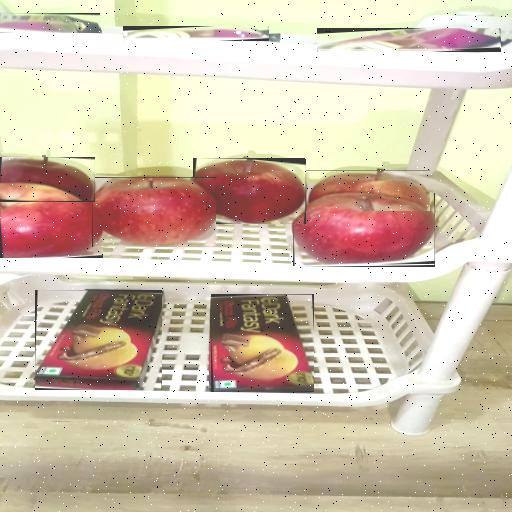Apple: (293, 194, 435, 268), (92, 177, 216, 247), (0, 184, 103, 258), (193, 158, 306, 224), (306, 170, 430, 211), (0, 157, 95, 202)
Choco Fills: (35, 290, 162, 390), (211, 294, 314, 392), (0, 13, 100, 33)
Choco Pie: (317, 29, 500, 50), (123, 29, 268, 40)
